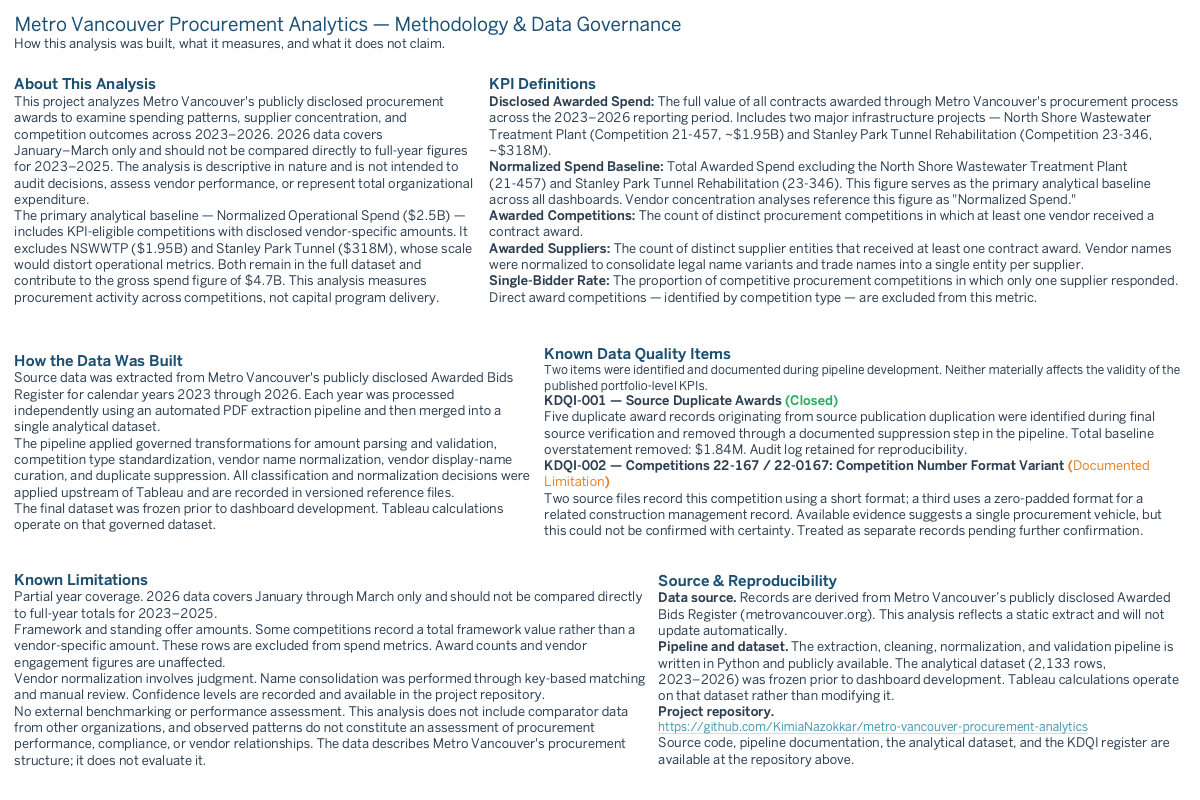

The dashboard page shown, as its layout file describes it:
{"tool":"tableau","page":{"name":"Methodology & Data Governance","canvas":[1200,800],"ordinal":2},"visuals":[{"type":"text","box":[8,8,1184,48]},{"type":"text","box":[8,56,475,277]},{"type":"text","box":[483,56,709,277]},{"type":"text","box":[8,333,530,225]},{"type":"text","box":[538,333,654,225]},{"type":"text","box":[8,558,644,230]},{"type":"text","box":[652,558,540,230]}]}

Visuals, with their boxes in screenshot pixels (x1, y1, x2, y2), scaled from the page's 1200x800 canvas onto the 1200x800 screenshot:
text: select_region(8, 8, 1192, 56)
text: select_region(8, 56, 483, 333)
text: select_region(483, 56, 1192, 333)
text: select_region(8, 333, 538, 558)
text: select_region(538, 333, 1192, 558)
text: select_region(8, 558, 652, 788)
text: select_region(652, 558, 1192, 788)
